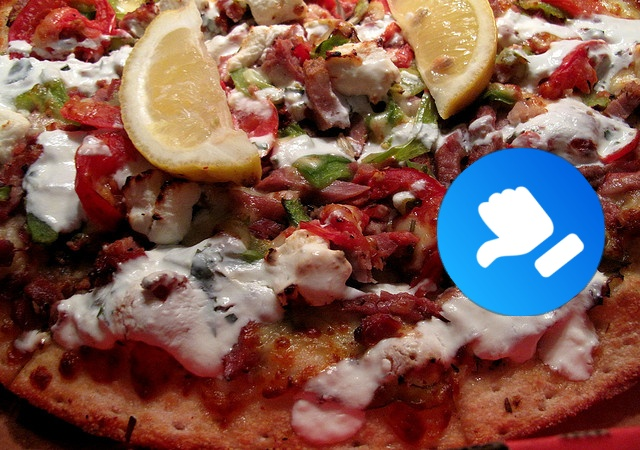like: (437, 148, 605, 316)
